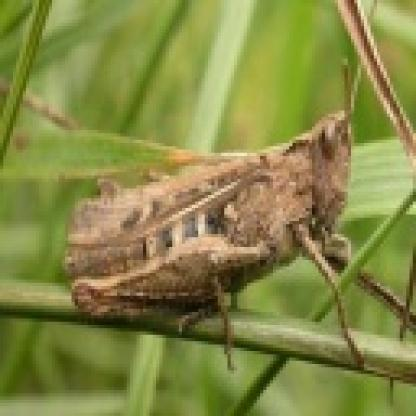grasshopper: (49, 85, 406, 361)
